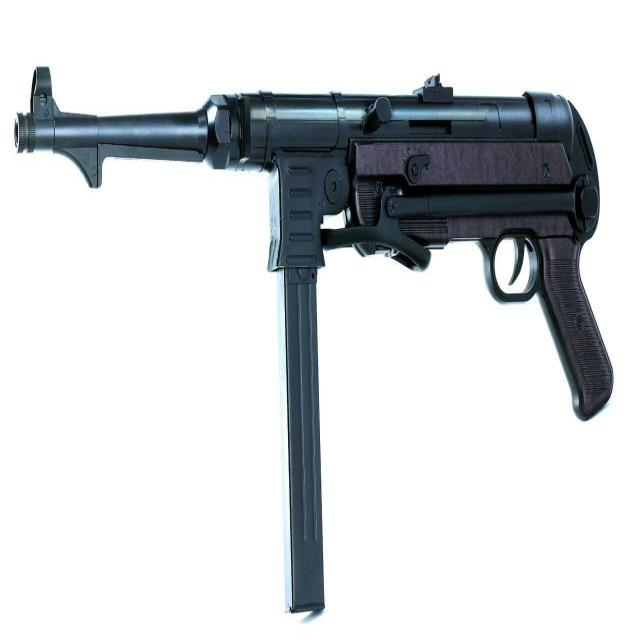Rifle: (11, 40, 616, 433)
